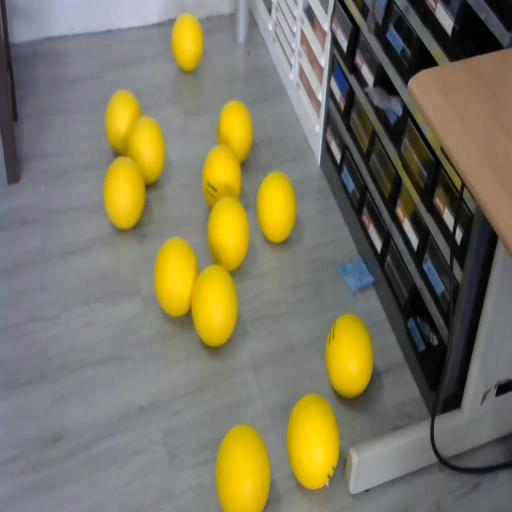FUEL: (286, 393, 340, 489), (214, 423, 270, 511), (324, 311, 374, 397), (190, 262, 238, 347), (152, 235, 200, 318), (206, 195, 250, 271), (103, 156, 146, 230), (256, 171, 297, 243), (105, 90, 142, 155), (218, 100, 254, 164), (170, 12, 204, 72)
